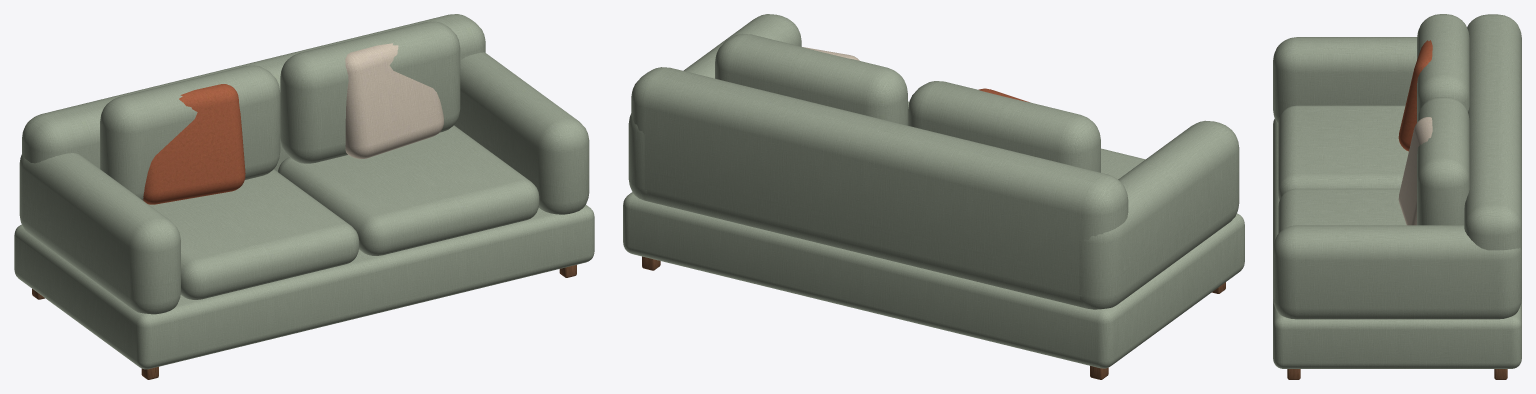
Rendered from sofa-sage.glb.
3 views of the same model, side by side, from view 1: azimuth 30°, elevation 25°; view 2: azimuth 150°, elevation 25°; view 3: azimuth 270°, elevation 25° (orthographic). The views are drawn at different scales.
Visible parts, largest first — view 1: base, seat.001, arm, seat, arm.001, cushion.001, cushion, pillow, pillow.001, back; view 2: back, base, arm, cushion.001, cushion, arm.001, seat; view 3: arm.001, base, back, seat, arm, cushion.001, seat.001, cushion, pillow.001, pillow.
Part boxes in pixels (x1,y1,x2,y2): base: [14, 205, 594, 369]; seat.001: [278, 125, 539, 255]; arm: [19, 153, 180, 314]; seat: [148, 169, 359, 299]; arm.001: [454, 52, 589, 214]; cushion.001: [280, 21, 460, 163]; cushion: [100, 65, 280, 200]; pillow: [143, 84, 245, 204]; pillow.001: [345, 43, 443, 158]; back: [22, 14, 485, 171]; back: [631, 67, 1128, 307]; base: [623, 192, 1244, 368]; arm: [1079, 120, 1239, 309]; cushion.001: [715, 33, 907, 125]; cushion: [908, 81, 1100, 172]; arm.001: [628, 14, 801, 200]; seat: [1101, 148, 1145, 179]; arm.001: [1273, 225, 1521, 319]; base: [1273, 119, 1521, 368]; back: [1464, 14, 1521, 250]; seat: [1278, 105, 1408, 200]; arm: [1273, 37, 1416, 124]; cushion.001: [1417, 97, 1469, 225]; seat.001: [1278, 188, 1406, 233]; cushion: [1417, 14, 1469, 119]; pillow.001: [1398, 117, 1432, 225]; pillow: [1398, 40, 1432, 151].
Size of the model in its own units: 1.9 by 0.82 by 0.9501.
4 materials, 4 textured.
